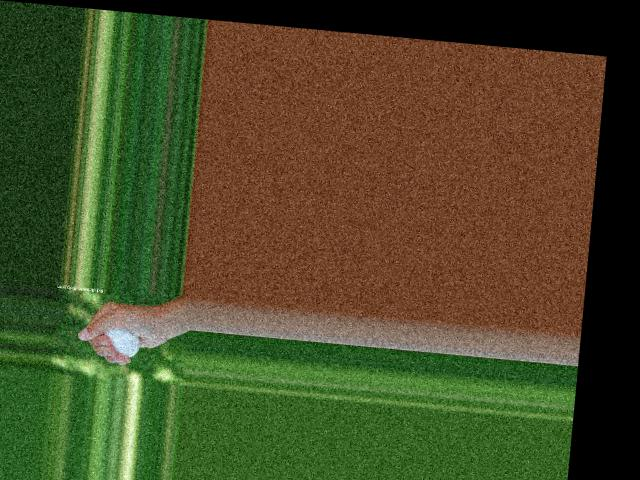egg: (101, 326, 140, 358)
